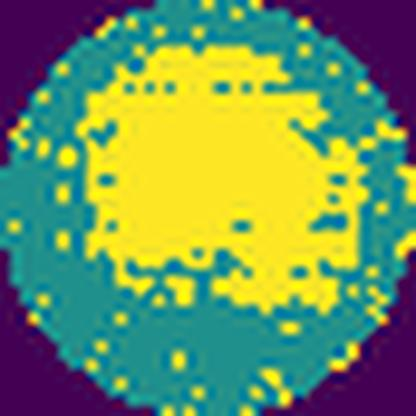Center: (74, 42, 366, 321)
